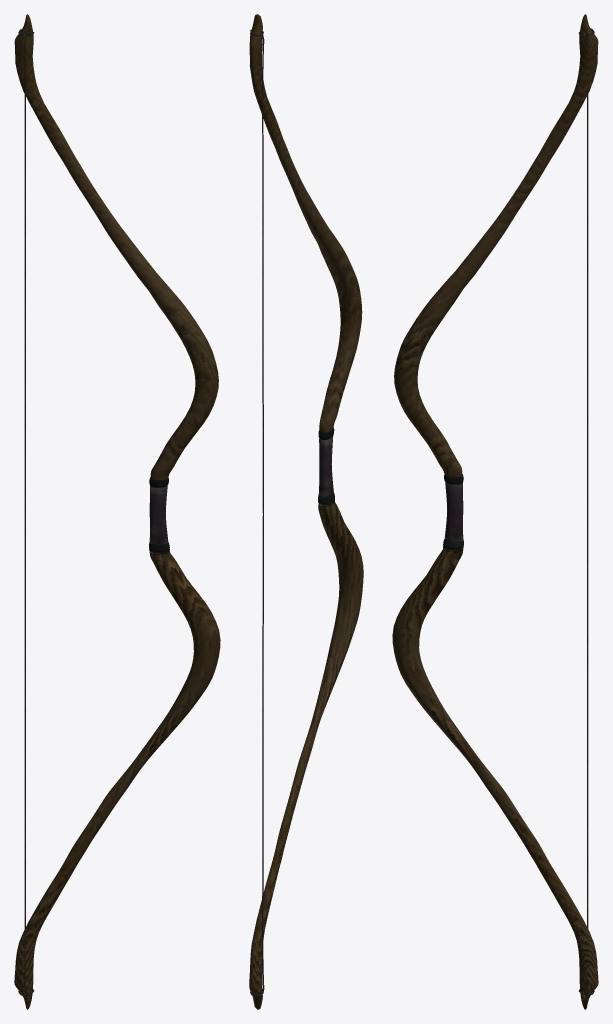
The model's file is Bow.fbx.
3 renders of one model, left to right at view 1: azimuth 90°, elevation 25°; view 2: azimuth 150°, elevation 25°; view 3: azimuth 270°, elevation 25°, orthographic.
Visible parts, largest first — view 1: Bow; view 2: Bow; view 3: Bow.
Part boxes in pixels (bbox=[...]): Bow: bbox=[14, 14, 220, 1009]; Bow: bbox=[249, 14, 363, 1009]; Bow: bbox=[392, 14, 598, 1009].
Size of the model in its own units: 3.46 by 161 by 30.18.
Materials: 1 (1 with a texture image).
